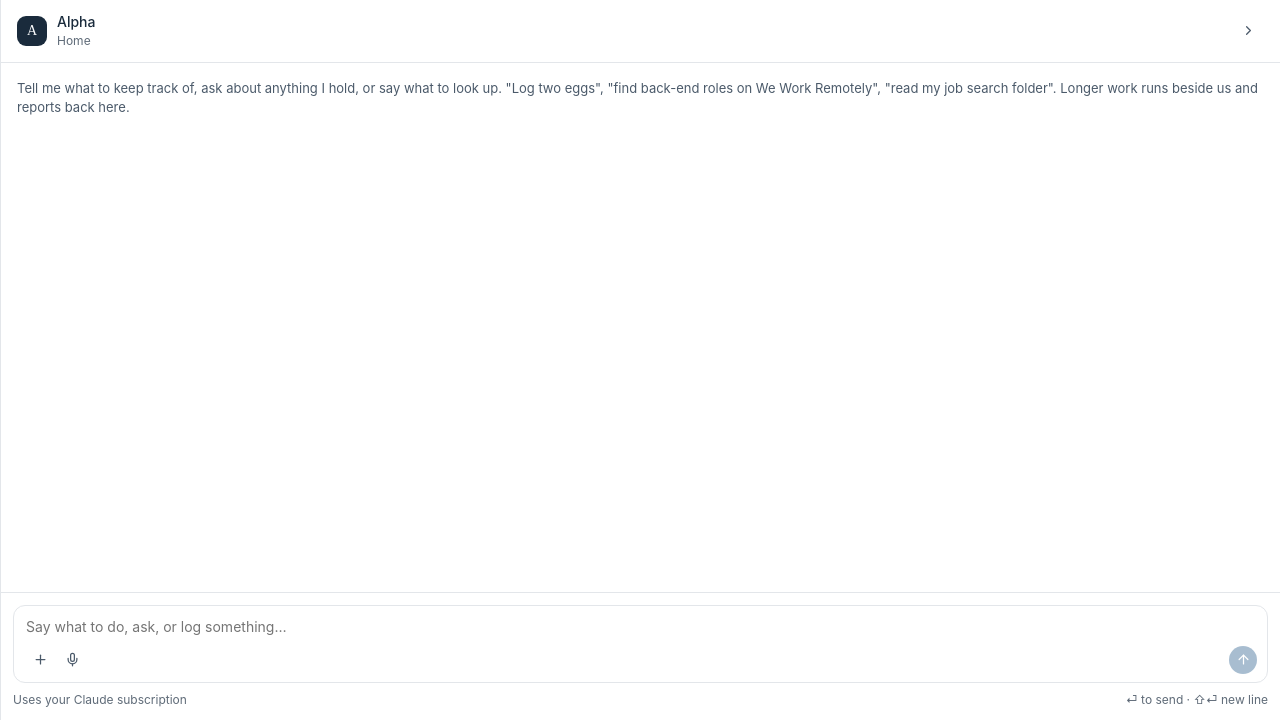
Test case: the assistant panel › shows a yes asked mid-turn while the turn waits on it, and a question only after the turn
The width and height of the screenshot is (1280, 720).
Type "remove the eggs" into the text box at x=642, y=628, box [26,616,1257,640]
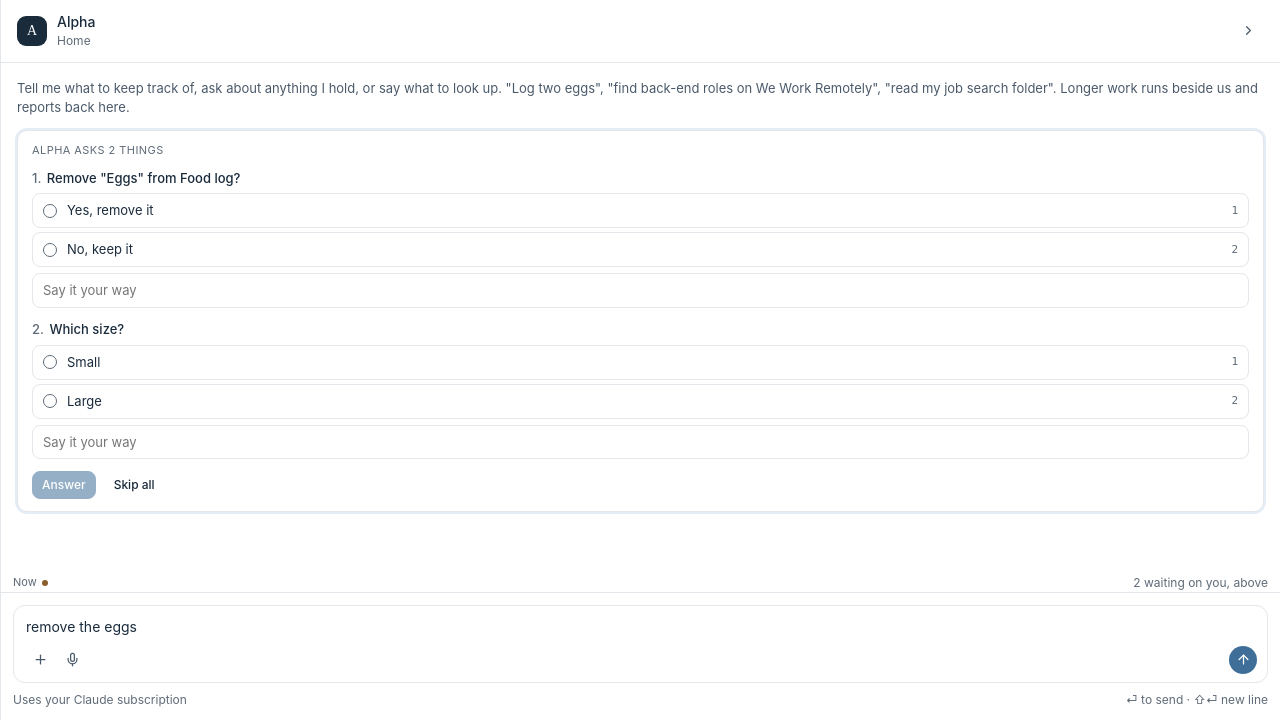
Press Enter in the text box, box [26,616,1257,640]
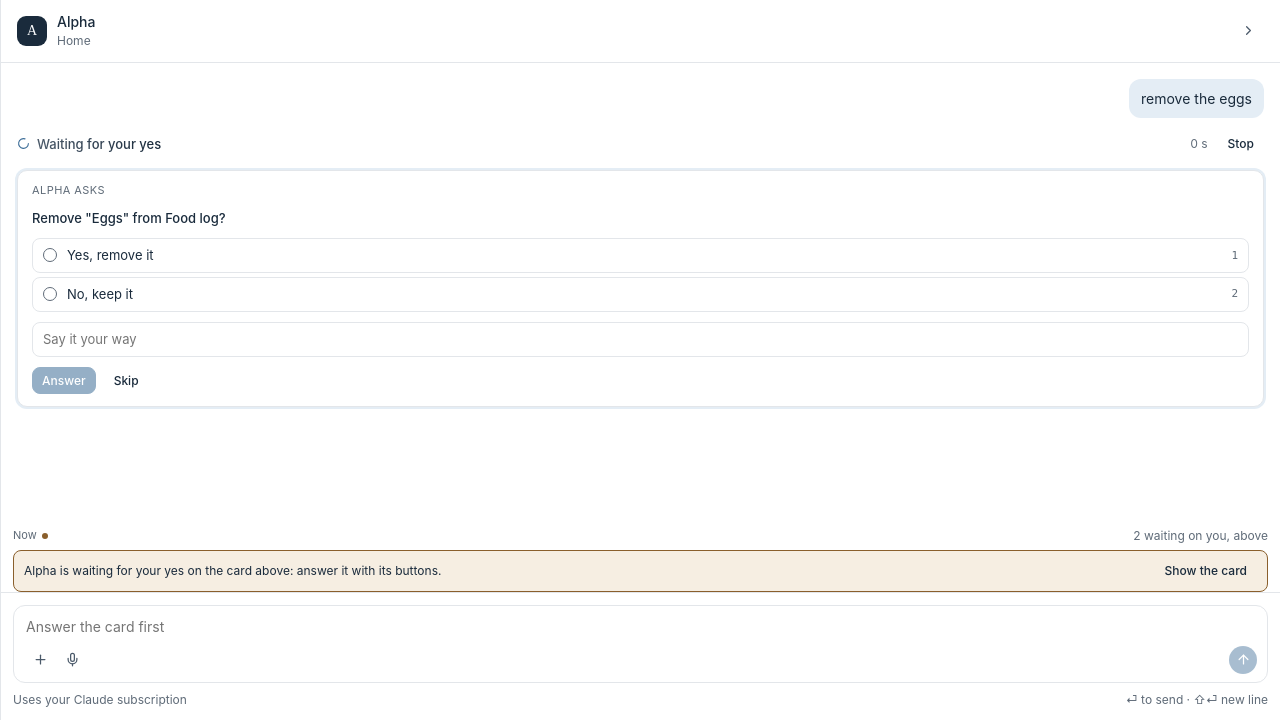
Result: the text "Remove \"Eggs\" from Food log?" is shown at [32,210,226,226]
Result: the text "Which size?" is gone
Result: the text "Alpha is waiting for your yes on the card above: answer it with its buttons." is shown at [24,562,441,580]
